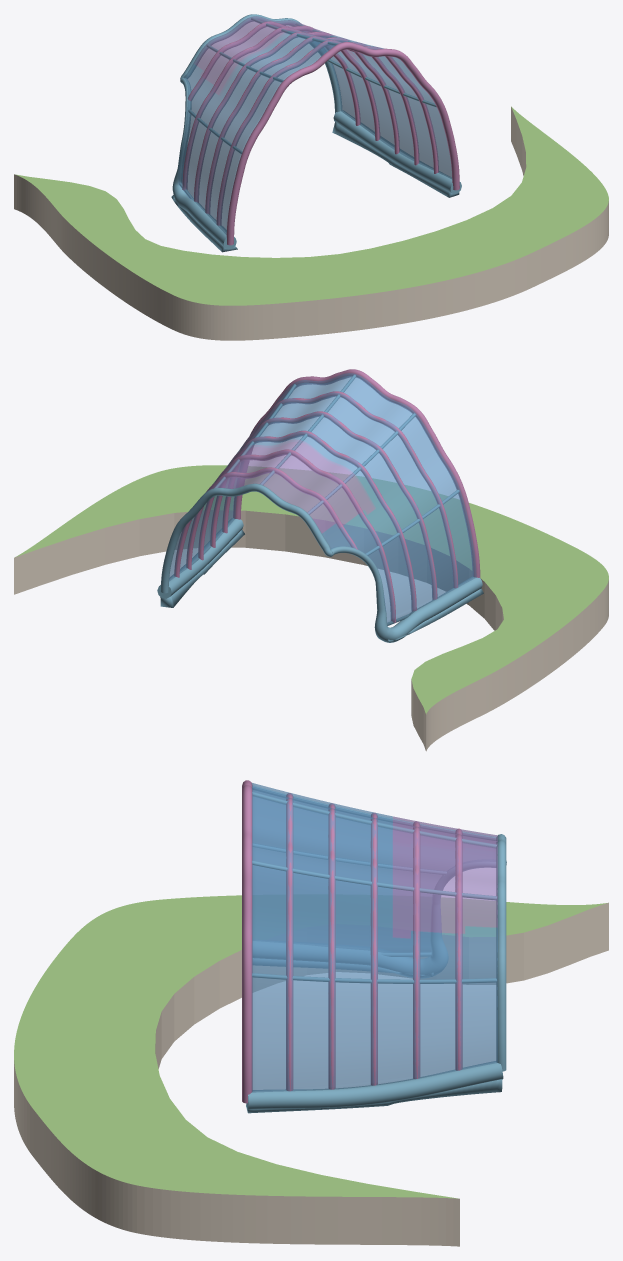
File: cove-corner-with-shore-v4.glb
3 renders of one model, top to bottom at view 1: azimuth 30°, elevation 25°; view 2: azimuth 150°, elevation 25°; view 3: azimuth 270°, elevation 25°, orthographic. The views are drawn at different scales.
Visible parts, largest first — view 1: P04 candidate / shared apron exact world floor and bank, Harbor / continuous translucent shell hall, Harbor / curved shell structural rib, Harbor / continuous entrance runner jamb rear arch, Harbor / curved shell structural rib.001, Harbor / curved shell structural rib.002, Harbor / shell grown footing.001, Harbor / curved shell structural rib.003, Harbor / curved shell structural rib.004, Harbor / corner structural rib joined to rim, Harbor / continuous grounded runner socket right; view 2: P04 candidate / shared apron exact world floor and bank, Harbor / continuous translucent shell hall, Harbor / continuous entrance runner jamb rear arch, Harbor / curved shell structural rib, Harbor / curved shell structural rib.001, Harbor / curved shell structural rib.002, Harbor / curved shell structural rib.003, Harbor / curved shell structural rib.004, Harbor / shell grown footing.001, Harbor / corner structural rib joined to rim, Harbor / continuous grounded runner socket right, Harbor / continuous grounded runner socket left; view 3: P04 candidate / shared apron exact world floor and bank, Harbor / continuous translucent shell hall, Harbor / continuous entrance runner jamb rear arch, Harbor / shell grown footing.001, Harbor / curved shell structural rib, Harbor / curved shell structural rib.001, Harbor / curved shell structural rib.002, Harbor / curved shell structural rib.004, Harbor / curved shell structural rib.003, Harbor / corner structural rib joined to rim, Harbor / continuous grounded runner socket right, Harbor / shell longitudinal seam.001 (+5 smaller).
Boxes of the visible parts, x1,y1,x2,y2 form: P04 candidate / shared apron exact world floor and bank: [14, 106, 608, 340]; Harbor / continuous translucent shell hall: [178, 16, 452, 234]; Harbor / curved shell structural rib: [226, 42, 459, 245]; Harbor / continuous entrance runner jamb rear arch: [172, 14, 342, 249]; Harbor / curved shell structural rib.001: [216, 40, 438, 225]; Harbor / curved shell structural rib.002: [205, 36, 419, 214]; Harbor / shell grown footing.001: [333, 110, 461, 194]; Harbor / curved shell structural rib.003: [194, 32, 399, 202]; Harbor / curved shell structural rib.004: [182, 27, 380, 190]; Harbor / corner structural rib joined to rim: [188, 21, 360, 125]; Harbor / continuous grounded runner socket right: [332, 122, 459, 197]; P04 candidate / shared apron exact world floor and bank: [14, 465, 608, 751]; Harbor / continuous translucent shell hall: [169, 373, 476, 625]; Harbor / continuous entrance runner jamb rear arch: [160, 483, 482, 642]; Harbor / curved shell structural rib: [233, 369, 480, 577]; Harbor / curved shell structural rib.001: [222, 391, 458, 588]; Harbor / curved shell structural rib.002: [210, 411, 437, 599]; Harbor / curved shell structural rib.003: [198, 430, 416, 611]; Harbor / curved shell structural rib.004: [186, 449, 396, 622]; Harbor / shell grown footing.001: [157, 518, 243, 598]; Harbor / corner structural rib joined to rim: [174, 467, 357, 577]; Harbor / continuous grounded runner socket right: [160, 529, 244, 607]; Harbor / continuous grounded runner socket left: [387, 588, 483, 642]; P04 candidate / shared apron exact world floor and bank: [14, 895, 608, 1246]; Harbor / continuous translucent shell hall: [251, 783, 497, 1092]; Harbor / continuous entrance runner jamb rear arch: [253, 834, 506, 1071]; Harbor / shell grown footing.001: [246, 1061, 503, 1109]; Harbor / curved shell structural rib: [242, 780, 252, 1103]; Harbor / curved shell structural rib.001: [286, 793, 293, 1091]; Harbor / curved shell structural rib.002: [328, 803, 335, 1089]; Harbor / curved shell structural rib.004: [413, 821, 420, 1078]; Harbor / curved shell structural rib.003: [370, 812, 377, 1085]; Harbor / corner structural rib joined to rim: [455, 828, 462, 1070]; Harbor / continuous grounded runner socket right: [246, 1079, 502, 1113]; Harbor / shell longitudinal seam.001: [252, 973, 496, 983].
Bounding box in the file's own units: 9.42 × 4.25 × 7.78.
